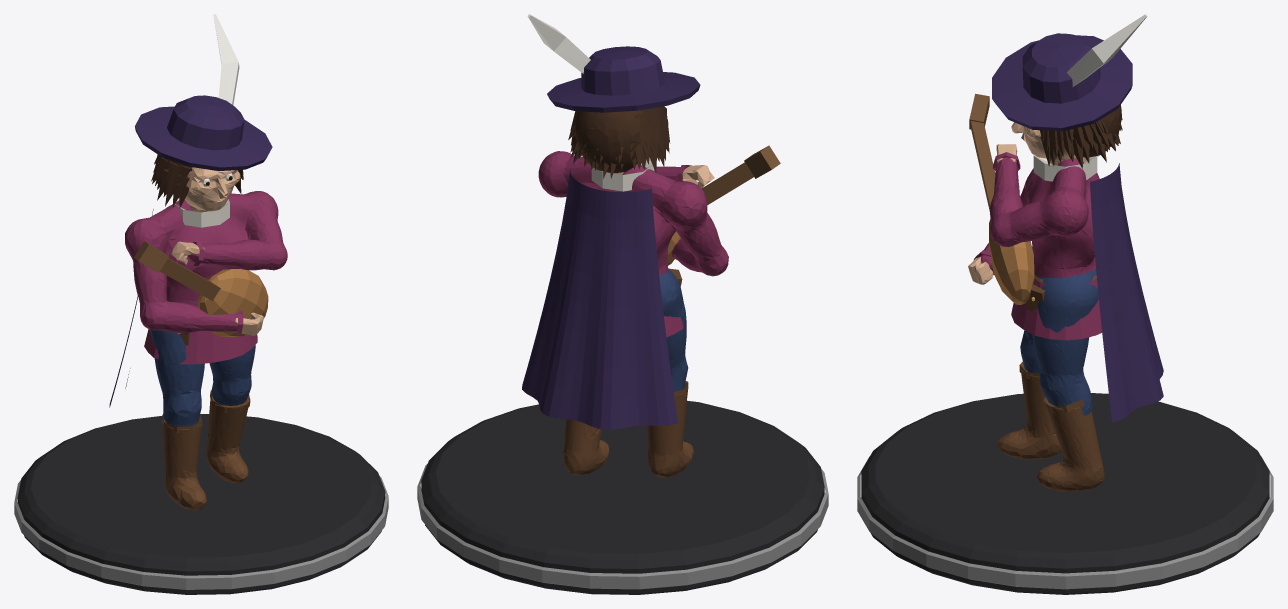
The model's file is bard.glb.
The picture shows the model from 3 angles, left to right: view 1: azimuth 30°, elevation 25°; view 2: azimuth 150°, elevation 25°; view 3: azimuth 270°, elevation 25°; orthographic projection. The views are drawn at different scales.
Parts seen in each view (by area): view 1: bard; view 2: bard; view 3: bard.
Part boxes in pixels (left/top/right/bottom): bard: left=14, top=14, right=388, bottom=594; bard: left=417, top=14, right=828, bottom=594; bard: left=857, top=14, right=1273, bottom=594.
Bounding box in the file's own units: 0.856 × 1.18 × 0.8498.
